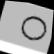no answer: (15, 9, 51, 44)
